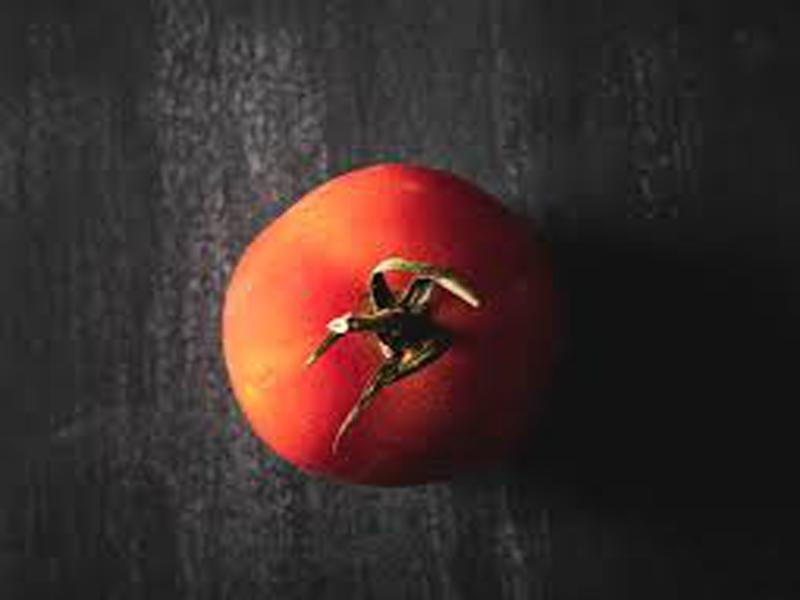Tomato: (220, 164, 555, 482)
